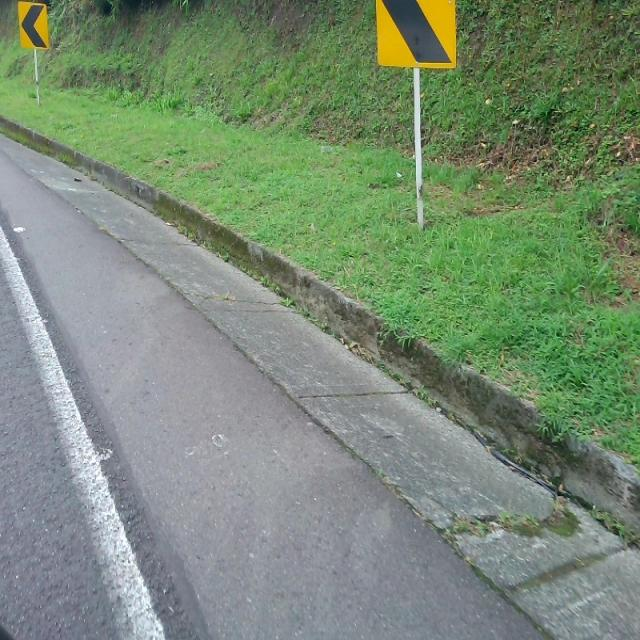DITCH: (1, 60, 639, 638), (1, 128, 638, 638)
